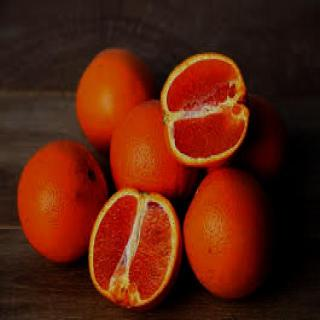orange: (180, 154, 288, 307), (9, 135, 114, 281), (83, 186, 191, 320), (152, 38, 248, 172)
